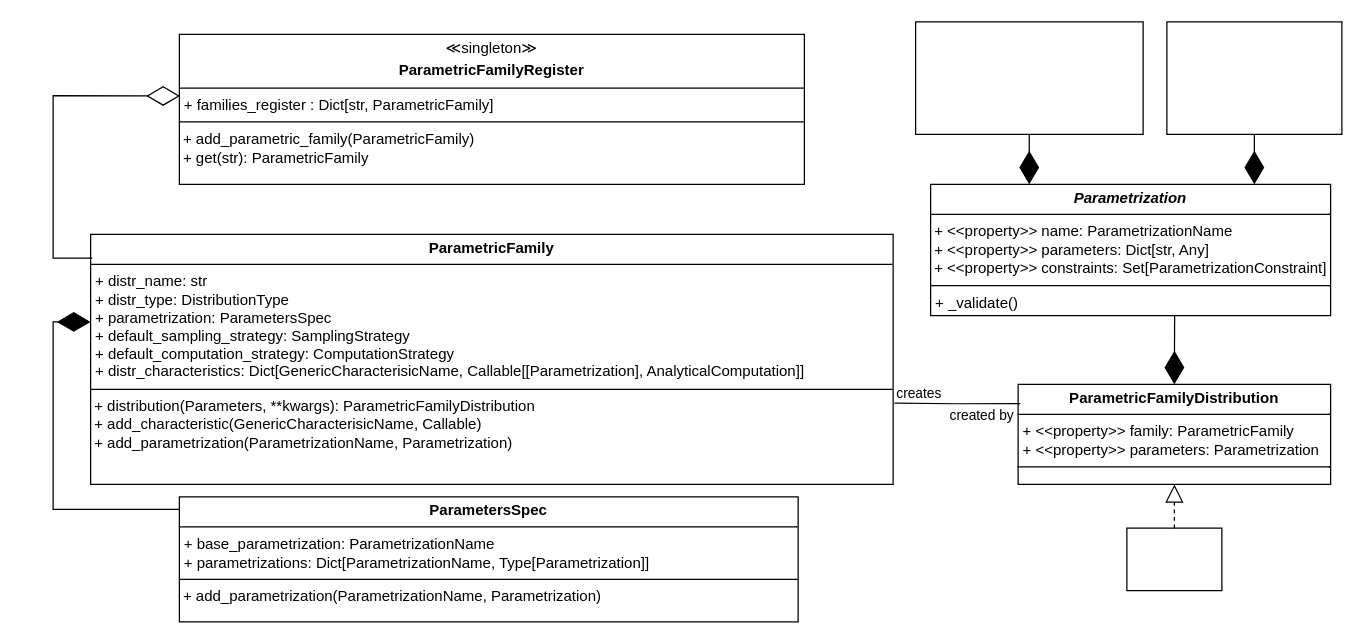
This 1364x644 diagram has some shape labels left out. The box of each missing label's shape, as (x1, y1, x2, y2) in pixels:
<<Protocol>> Distribution: (1126, 527, 1222, 591)
ParameterizationConstraint + description: str + check(Dicst[str, Any]): bool: (914, 21, 1143, 134)
str ≪typedef≫ ParametrizationName: (1166, 21, 1342, 134)
